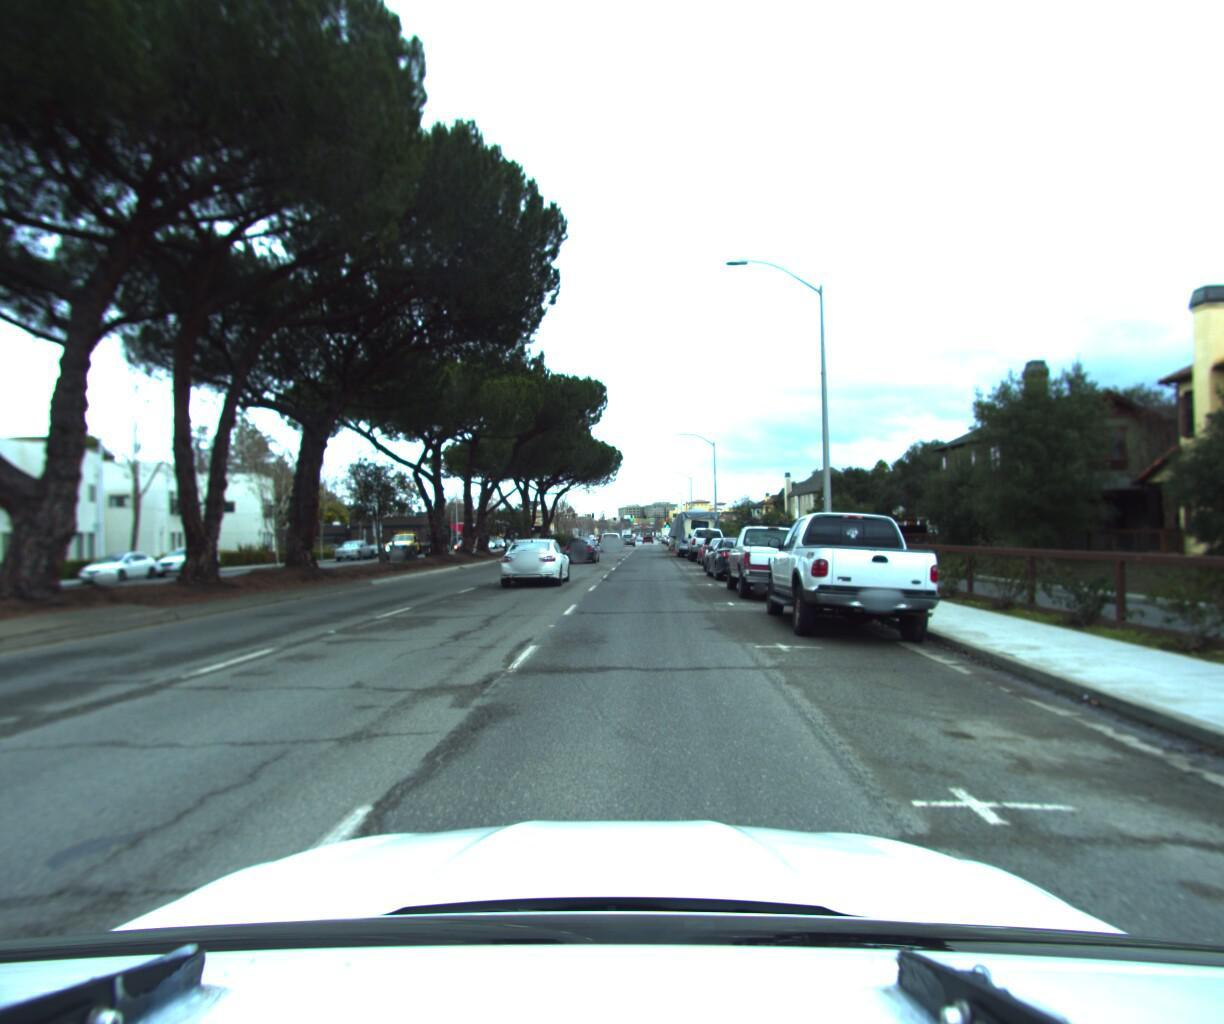car: (754, 504, 950, 649), (721, 514, 830, 603), (495, 533, 570, 588), (703, 531, 770, 581), (78, 551, 165, 588), (152, 544, 225, 579), (701, 533, 751, 569), (687, 523, 728, 560), (695, 532, 736, 562), (563, 531, 601, 561), (334, 537, 378, 562), (602, 528, 624, 545)
other_vehicle: (673, 507, 720, 554)
truck: (377, 529, 442, 560)
